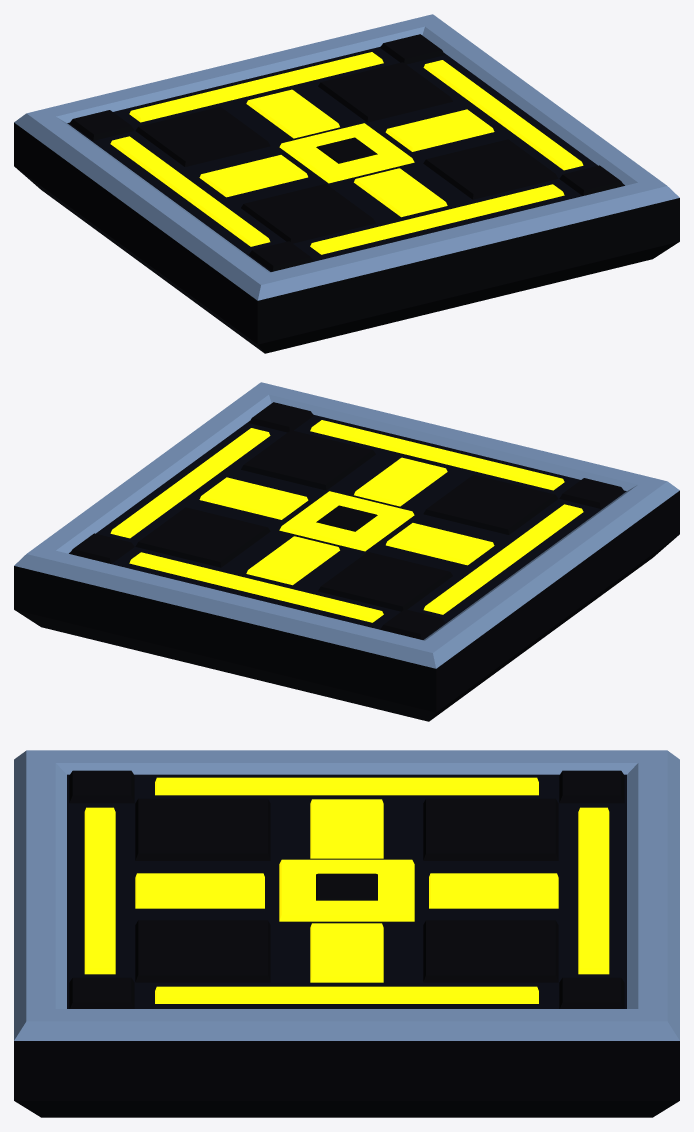
Rendered from SM_ArenaTile_02_Warning.glb.
3 renders of one model, top to bottom at view 1: azimuth 30°, elevation 25°; view 2: azimuth 150°, elevation 25°; view 3: azimuth 270°, elevation 25°, orthographic. The views are drawn at different scales.
Visible parts, largest first — view 1: Part_MAT_DarkNeutral, Part_MAT_LightTrim, Part_EMI_Amber, Part_MAT_AltNeutral; view 2: Part_MAT_DarkNeutral, Part_MAT_LightTrim, Part_EMI_Amber, Part_MAT_AltNeutral; view 3: Part_MAT_DarkNeutral, Part_MAT_LightTrim, Part_EMI_Amber, Part_MAT_AltNeutral.
Part boxes in pixels (x1,y1,x2,y2): Part_MAT_DarkNeutral: (14, 34, 679, 353); Part_MAT_LightTrim: (14, 14, 679, 300); Part_EMI_Amber: (110, 52, 583, 254); Part_MAT_AltNeutral: (67, 46, 624, 271); Part_MAT_DarkNeutral: (14, 402, 679, 721); Part_MAT_LightTrim: (14, 382, 679, 668); Part_EMI_Amber: (110, 420, 583, 622); Part_MAT_AltNeutral: (69, 414, 626, 639); Part_MAT_DarkNeutral: (14, 770, 679, 1117); Part_MAT_LightTrim: (14, 750, 679, 1040); Part_EMI_Amber: (84, 777, 609, 1003); Part_MAT_AltNeutral: (67, 774, 626, 1008).
Bounding box in the file's own units: 11.8 × 2 × 11.8.
4 materials, 4 textured.
